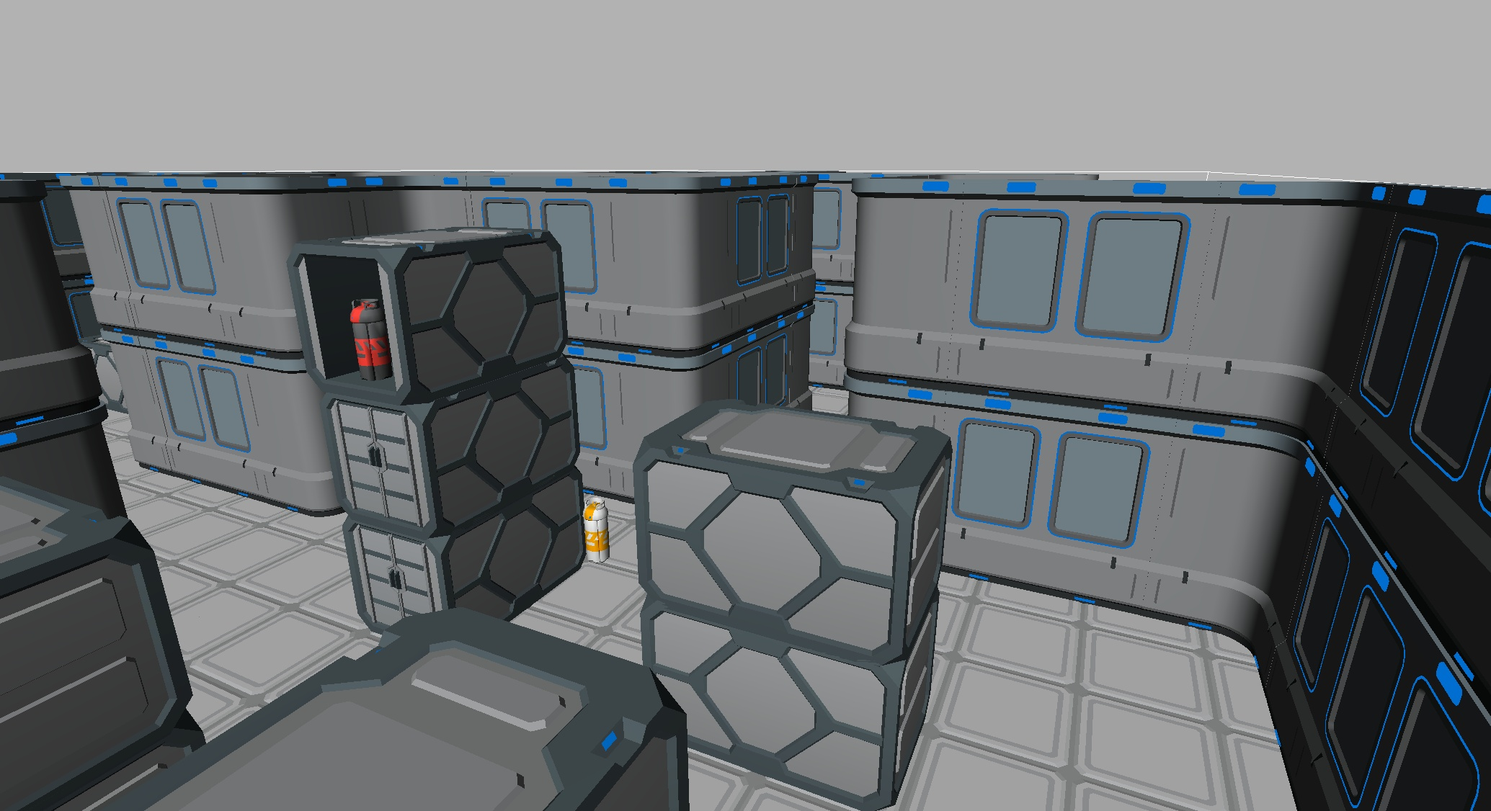red_barrel: (351, 298, 391, 380)
yellow_barrel: (583, 496, 610, 562)
